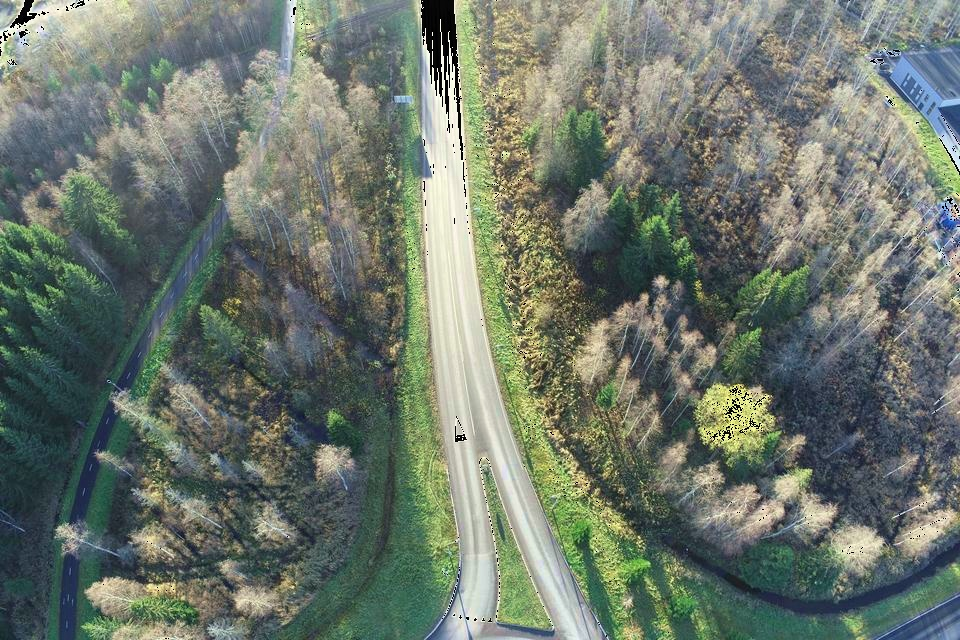roundabout: (348, 566, 684, 640)
